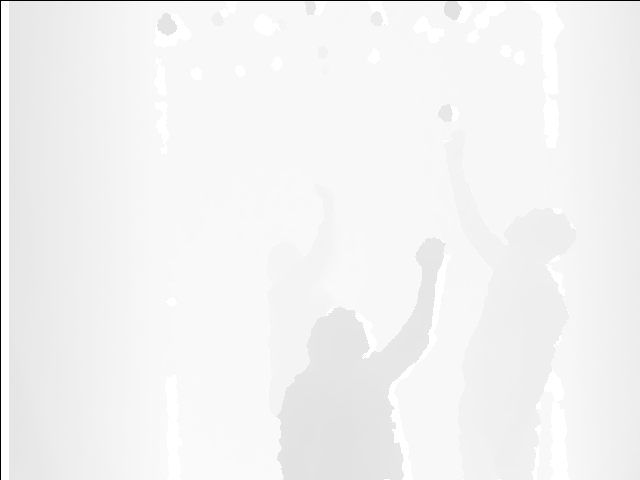hand: (415, 238, 446, 275), (315, 183, 340, 219), (444, 127, 470, 159)
